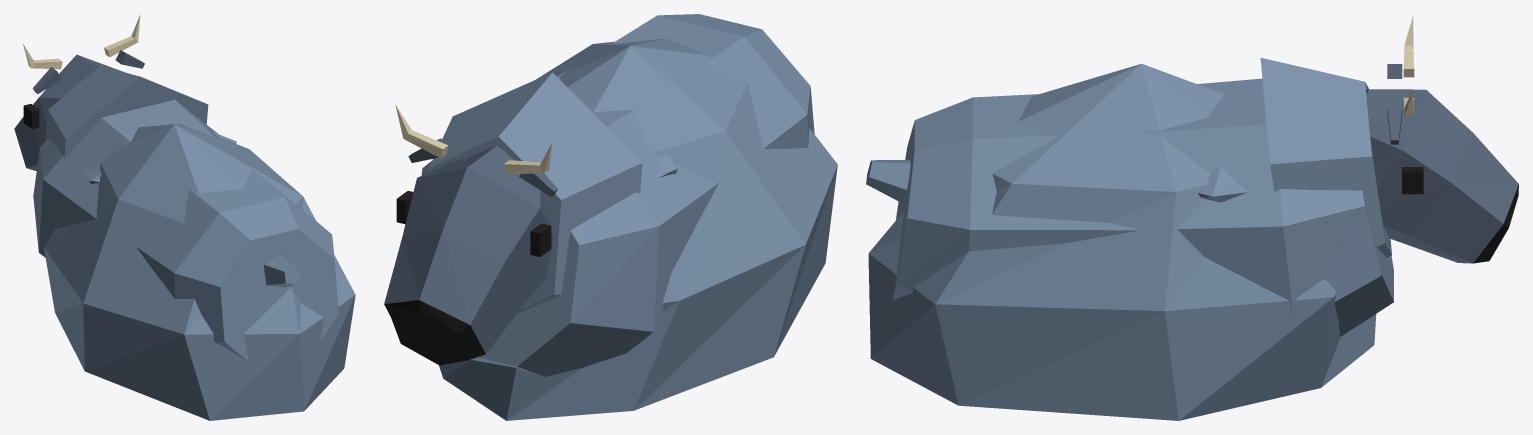
The model's file is animal_muffalo.obj.
3 views of the same model, side by side, from view 1: azimuth 30°, elevation 25°; view 2: azimuth 150°, elevation 25°; view 3: azimuth 270°, elevation 25° (orthographic). The views are drawn at different scales.
Visible parts, largest first — view 1: animal_muffalo; view 2: animal_muffalo; view 3: animal_muffalo.
Boxes of the visible parts, <box> form: animal_muffalo: <box>14,15,355,420</box>; animal_muffalo: <box>384,14,837,420</box>; animal_muffalo: <box>866,15,1518,420</box>.
Bounding box in the file's own units: 0.9207 × 0.9681 × 1.72.
